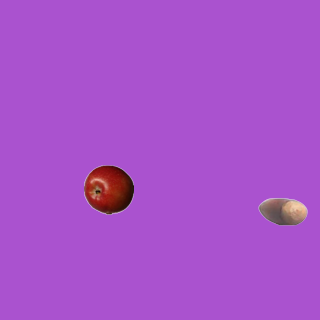Apple Braeburn: (83, 164, 133, 214)
Hazelnut: (257, 186, 307, 236)
